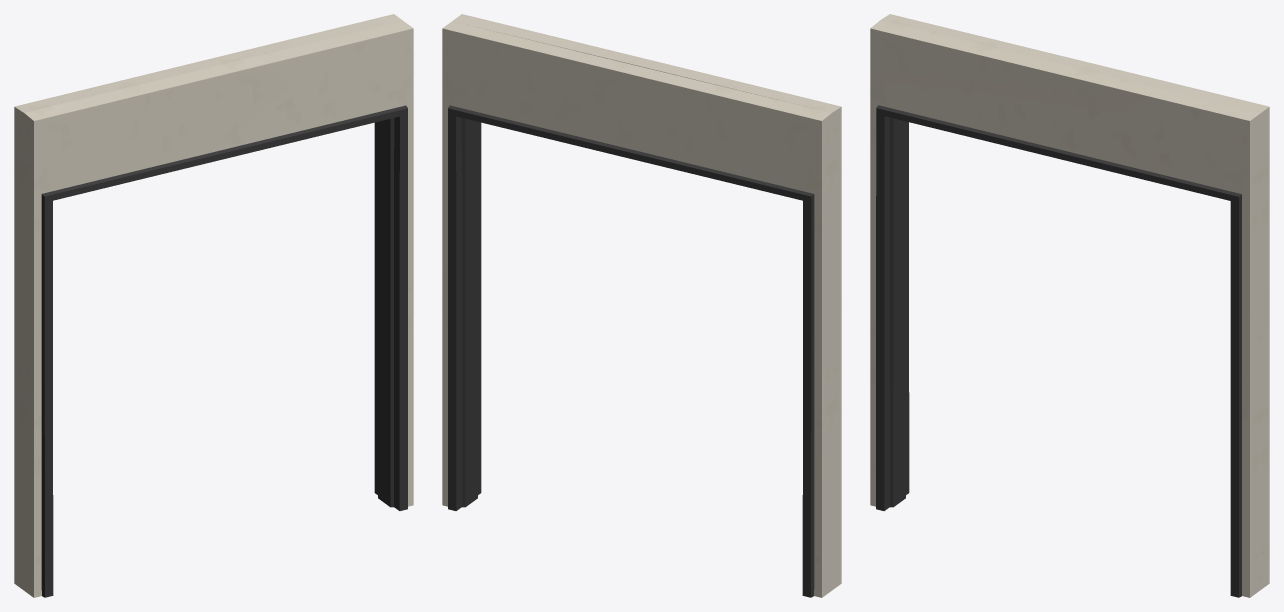
File: SM_Bld_Base_Wall_Door_Double_Large_01_1146.obj
3 views of the same model, side by side, from view 1: azimuth 30°, elevation 25°; view 2: azimuth 150°, elevation 25°; view 3: azimuth 330°, elevation 25° (orthographic).
Visible parts, largest first — view 1: SM_Bld_Base_Wall_Door_Double_Large_01_2, SM_Bld_Base_Wall_Door_Double_Large_01_1, SM_Bld_Base_Wall_Door_Double_Large_01_0; view 2: SM_Bld_Base_Wall_Door_Double_Large_01_0, SM_Bld_Base_Wall_Door_Double_Large_01_1, SM_Bld_Base_Wall_Door_Double_Large_01_2; view 3: SM_Bld_Base_Wall_Door_Double_Large_01_2, SM_Bld_Base_Wall_Door_Double_Large_01_1, SM_Bld_Base_Wall_Door_Double_Large_01_0.
Boxes of the visible parts, x1,y1,x2,y2 form: SM_Bld_Base_Wall_Door_Double_Large_01_2: (24,21,413,597); SM_Bld_Base_Wall_Door_Double_Large_01_1: (41,105,407,597); SM_Bld_Base_Wall_Door_Double_Large_01_0: (14,14,403,590); SM_Bld_Base_Wall_Door_Double_Large_01_0: (442,21,831,597); SM_Bld_Base_Wall_Door_Double_Large_01_1: (448,105,814,597); SM_Bld_Base_Wall_Door_Double_Large_01_2: (452,14,841,590); SM_Bld_Base_Wall_Door_Double_Large_01_2: (870,20,1259,597); SM_Bld_Base_Wall_Door_Double_Large_01_1: (876,105,1241,597); SM_Bld_Base_Wall_Door_Double_Large_01_0: (880,14,1269,590).
Size of the model in its own units: 2.5 by 3.01 by 0.288.
Materials: 3 (2 with a texture image).
